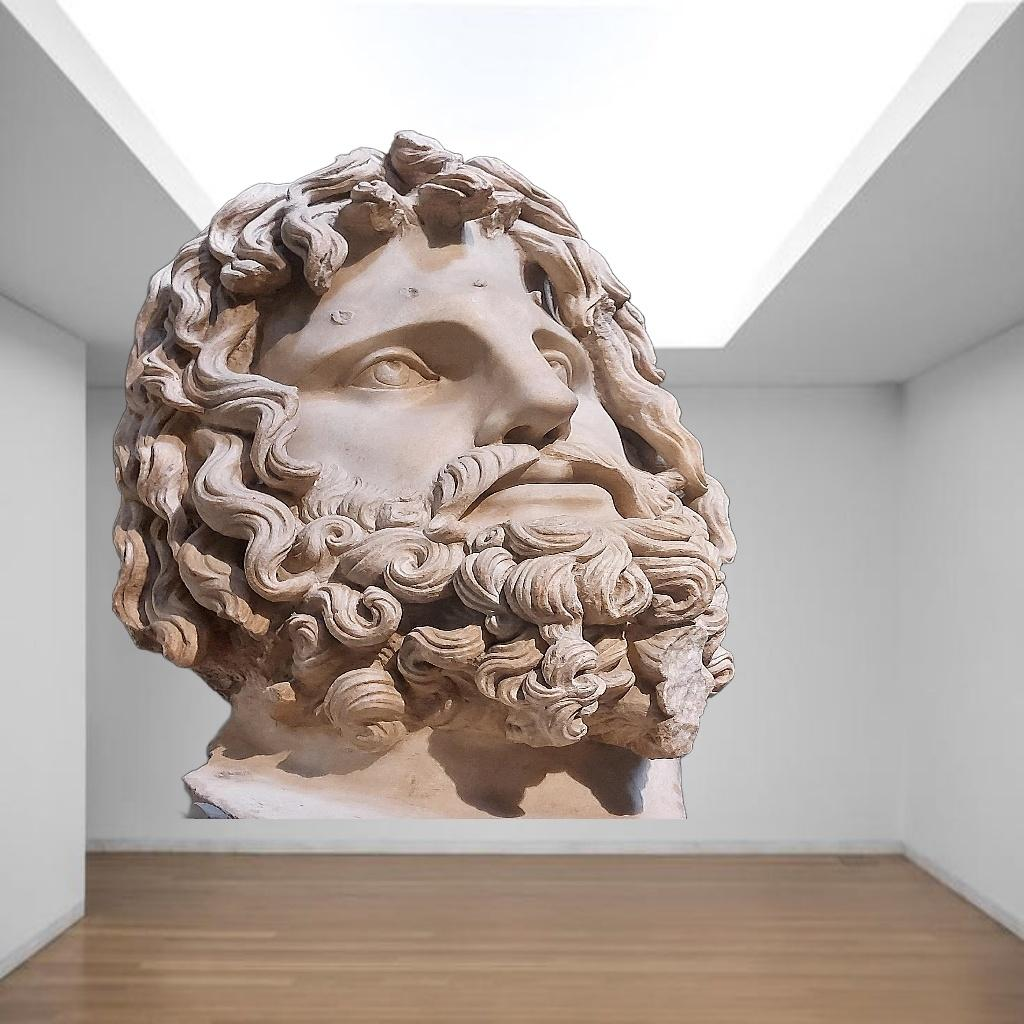Clossal Head of the god Serapis: (112, 130, 741, 820)
